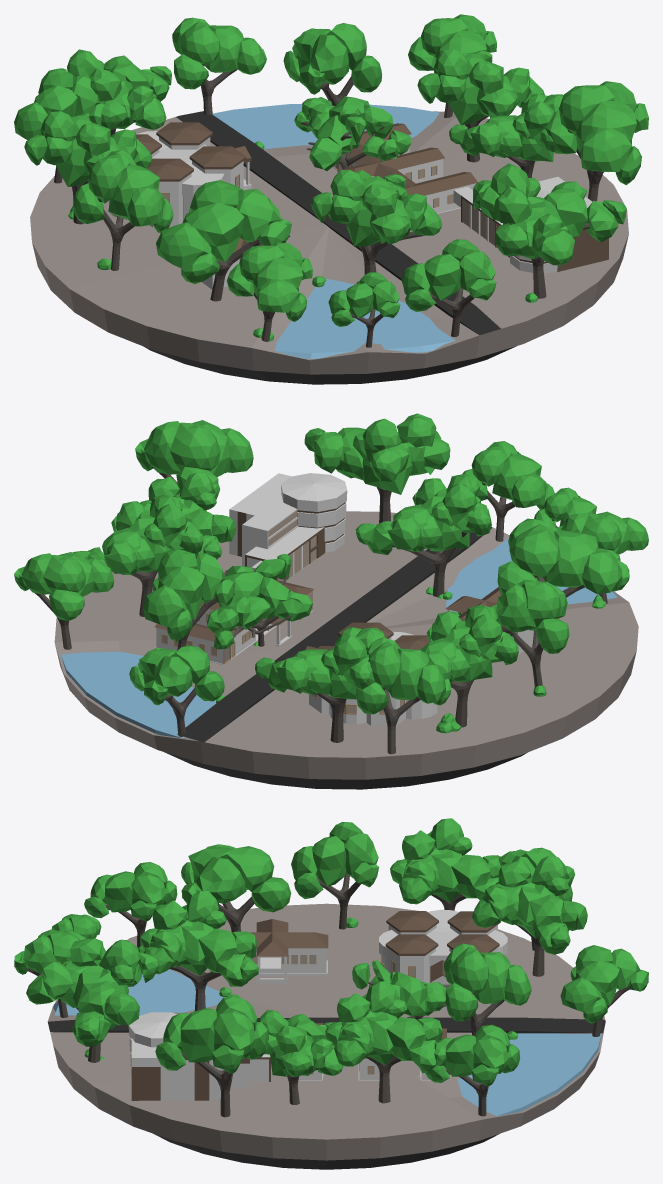
The model's file is low-scene-nits.dae.
The picture shows the model from 3 angles, top to bottom: view 1: azimuth 30°, elevation 25°; view 2: azimuth 150°, elevation 25°; view 3: azimuth 270°, elevation 25°; orthographic projection. The views are drawn at different scales.
Parts seen in each view (by area): view 1: Cylinder, Cylinder_001, Icosphere_003, Cube_027, Cube_003, Icosphere_001, Cube, Cube_015, Cube_018, Cube_001, Cube_004, Icosphere (+12 smaller); view 2: Cylinder, Cube_006, Cylinder_001, Icosphere_003, Cube_027, Icosphere_001, Cube_015, Cube_004, Cube_003, Cube_001, Cube_014, Icosphere (+15 smaller); view 3: Cylinder, Cylinder_001, Icosphere_003, Cube_015, Icosphere_001, Icosphere, Cube_003, Icosphere_002, Cube, Cube_006, Cube_027, Cube_018 (+13 smaller).
Part boxes in pixels (x1,y1,x2,y2): Cylinder: (30,111,628,384); Cylinder_001: (212,104,455,358); Icosphere_003: (472,163,626,265); Cube_027: (156,180,291,301); Cube_003: (545,81,648,201); Icosphere_001: (311,170,442,246); Cube: (109,122,251,227); Cube_015: (417,49,544,162); Cube_018: (73,149,173,270); Cube_001: (294,96,411,170); Cube_004: (176,111,500,335); Icosphere: (61,49,171,129); Cylinder: (54,511,638,789); Cube_006: (229,473,347,581); Cylinder_001: (61,538,617,738); Icosphere_003: (304,413,450,494); Cube_027: (497,518,629,597); Icosphere_001: (355,474,491,554); Cube_015: (73,494,203,616); Cube_004: (177,527,492,742); Cube_003: (135,420,253,496); Cube_001: (207,554,312,649); Cube_014: (143,549,234,650); Icosphere: (255,627,385,699); Cylinder: (47,903,605,1169); Cylinder_001: (53,969,601,1115); Icosphere_003: (26,938,159,1046); Cube_015: (325,980,446,1103); Icosphere_001: (140,891,258,986); Icosphere: (472,856,587,954); Cube_003: (155,996,269,1117); Icosphere_002: (390,818,500,904); Cube: (379,909,507,1009); Cube_006: (128,1012,270,1100); Cube_027: (181,844,291,932); Cube_018: (291,822,378,929).
Bounding box in the file's own units: 21.7 × 24.46 × 9.95.
